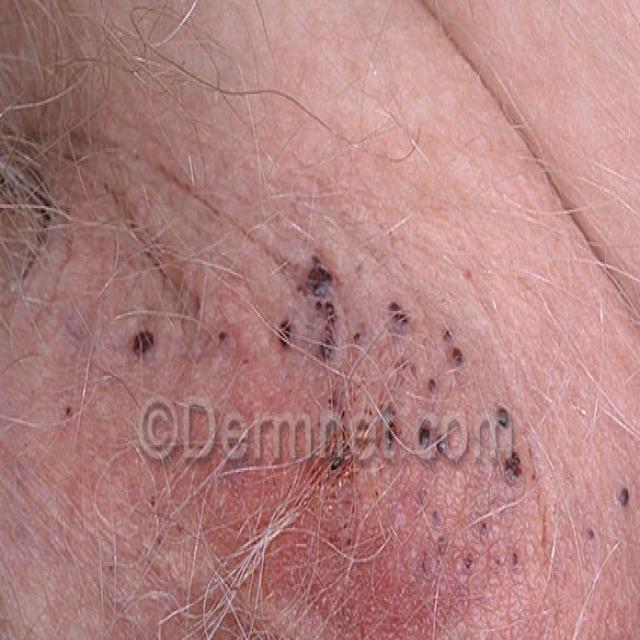Vascular Tumors: (384, 272, 529, 533), (542, 385, 640, 573), (263, 235, 356, 400), (287, 400, 380, 548), (303, 215, 368, 363), (181, 253, 239, 363), (115, 306, 174, 389), (15, 607, 66, 640)
